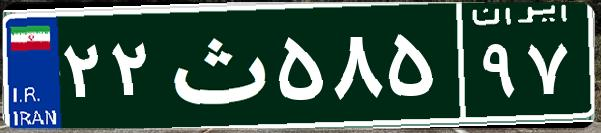2: (57, 26, 110, 107), (110, 28, 158, 105)
5: (385, 28, 445, 110), (273, 28, 330, 110)
7: (525, 38, 570, 115)
8: (330, 28, 385, 110)
9: (475, 38, 525, 113)
ث: (158, 15, 273, 115)
